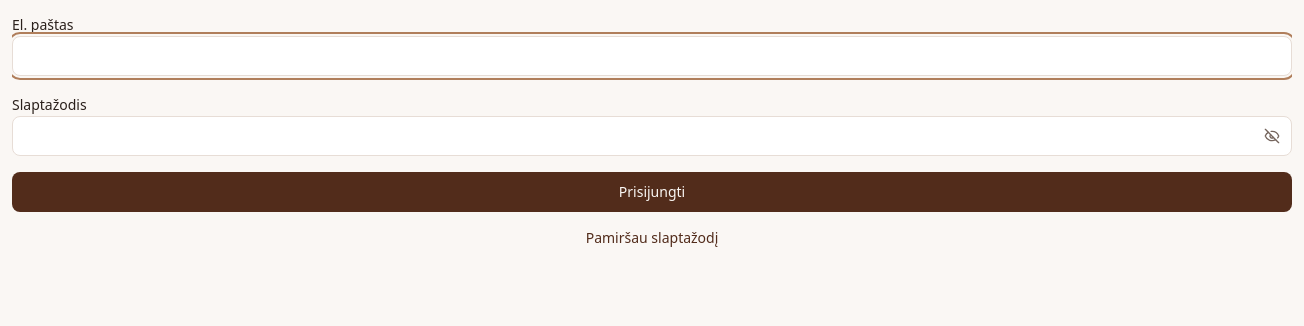
it: LoginForm › maps a Turnstile challenge failure to a Lithuanian message
This screenshot has width=1304, height=326.
In the field labelled "El. paštas": (652, 56) [12,36,1292,76], type "a@example.com"
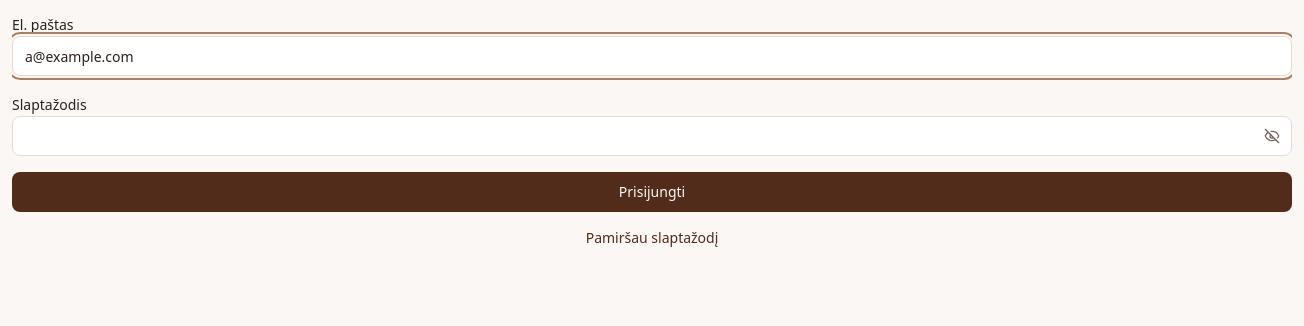
In the password field labelled "Slaptažodis": (652, 136) [12,116,1292,156], type "password"
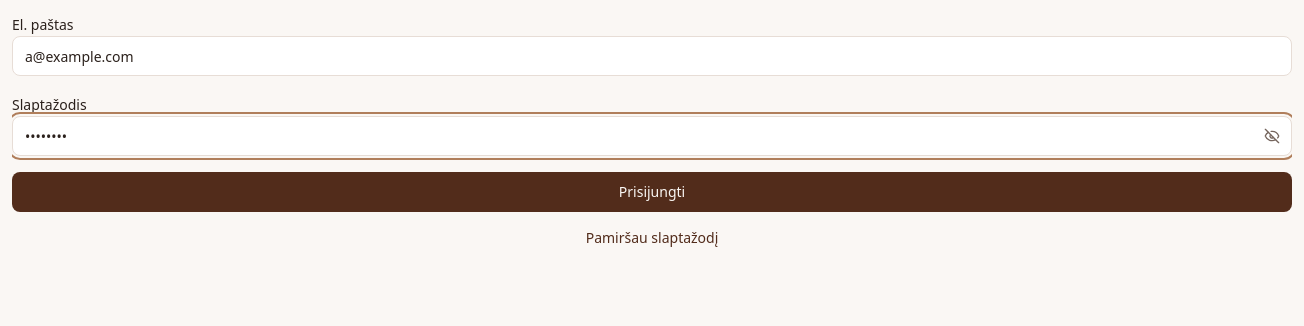
Click the button "Prisijungti": (652, 192) [12,172,1292,212]
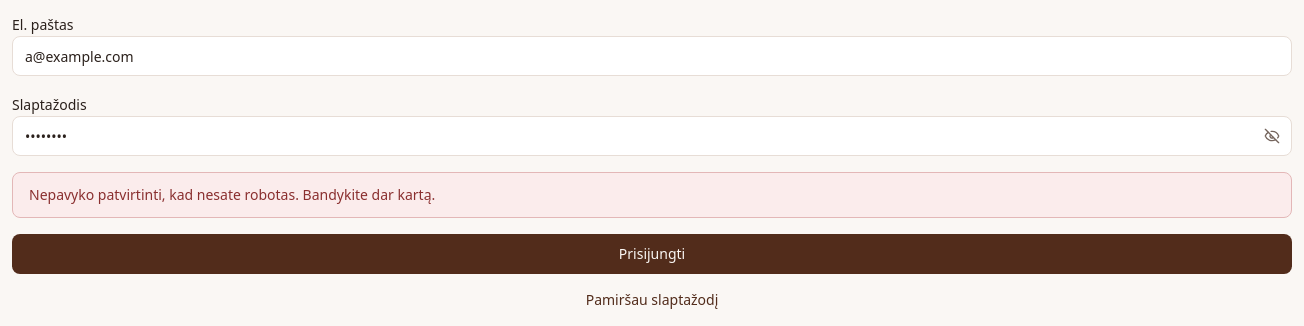
Check: the text "Nepavyko patvirtinti, kad nesate robotas. Bandykite dar kartą." is shown, box [12,172,1292,218]
